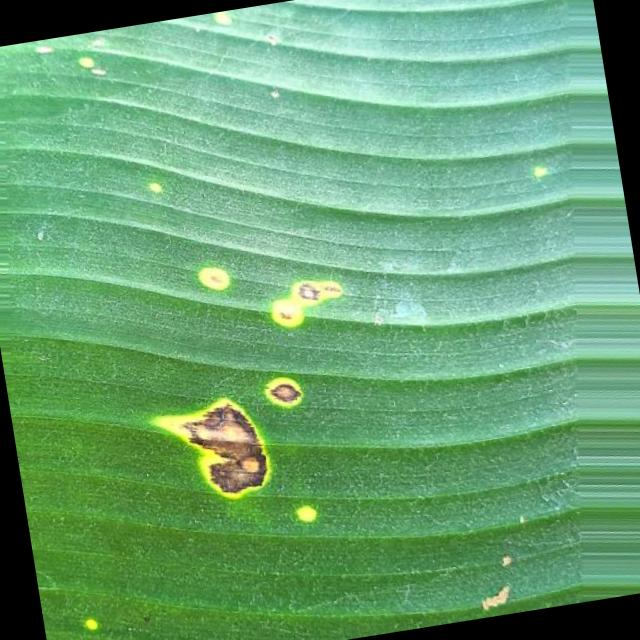Banana_Black_Sigatoka: (88, 195, 416, 561)
